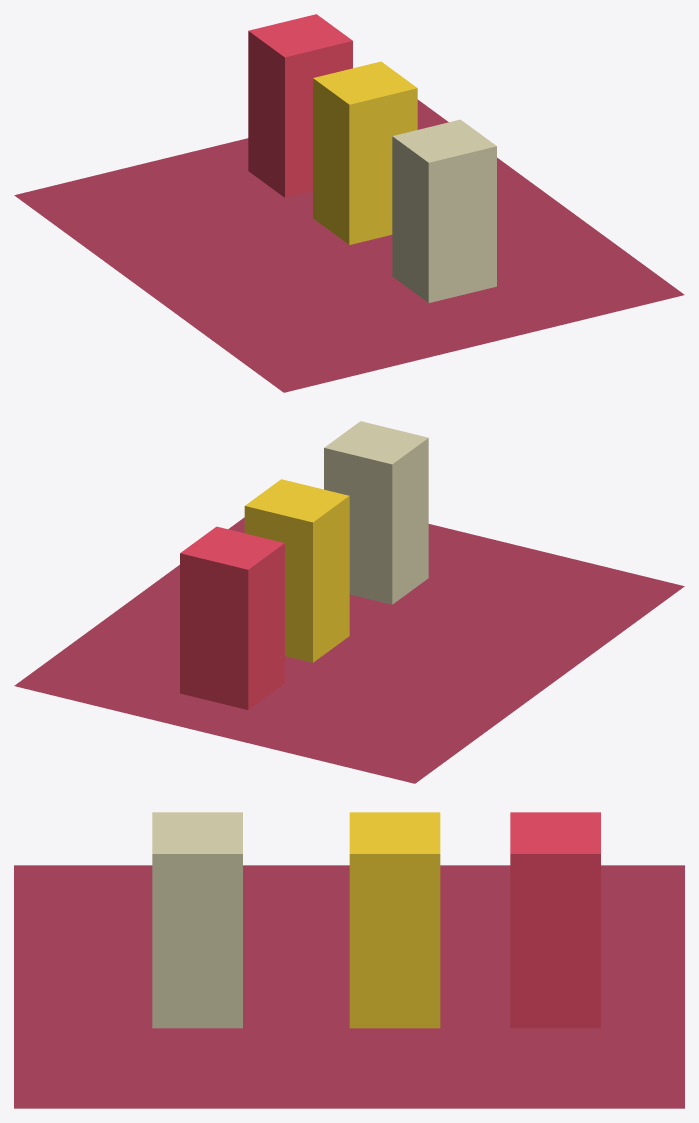
Rendered from basic_test.gltf.
3 renders of one model, top to bottom at view 1: azimuth 30°, elevation 25°; view 2: azimuth 150°, elevation 25°; view 3: azimuth 270°, elevation 25°, orthographic. The views are drawn at different scales.
Parts seen in each view (by area): view 1: group_0, group_2, group_1, group_3; view 2: group_0, group_3, group_2, group_1; view 3: group_0, group_1, group_2, group_3.
Part boxes in pixels (<box>): group_0: <box>14,99,684,392</box>; group_2: <box>392,119,496,302</box>; group_1: <box>313,61,417,244</box>; group_3: <box>248,14,352,197</box>; group_0: <box>14,517,684,783</box>; group_3: <box>180,526,284,709</box>; group_2: <box>324,421,428,604</box>; group_1: <box>244,479,349,662</box>; group_0: <box>14,865,684,1108</box>; group_1: <box>349,812,440,1028</box>; group_2: <box>152,812,242,1028</box>; group_3: <box>510,812,600,1028</box>.
Bounding box in the file's own units: 6.27 × 2.1 × 7.31.
